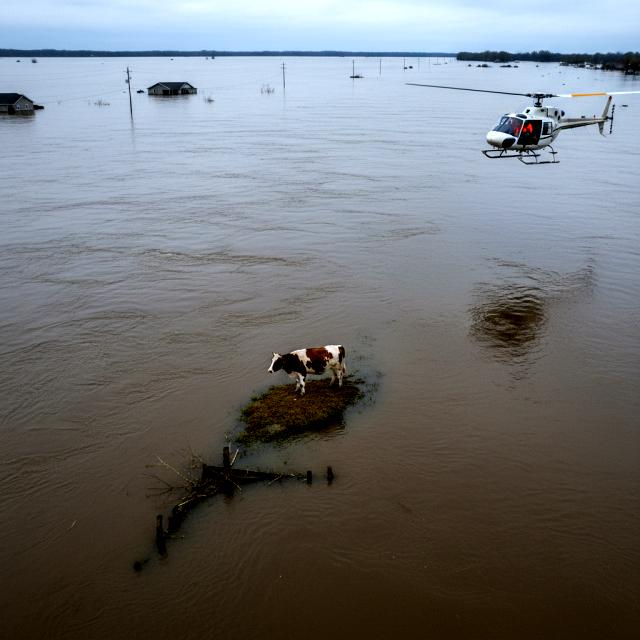cow: (257, 332, 359, 406)
